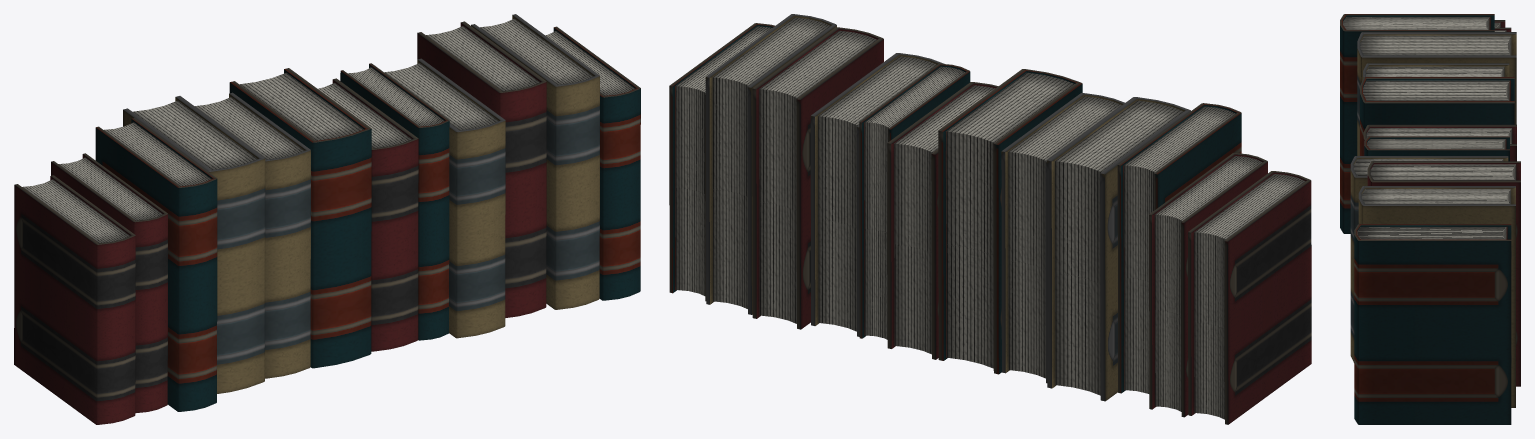
The model's file is CI_067_books_long.glb.
3 views of the same model, side by side, from view 1: azimuth 30°, elevation 25°; view 2: azimuth 150°, elevation 25°; view 3: azimuth 270°, elevation 25° (orthographic). The views are drawn at different scales.
Visible parts, largest first — view 1: book_8, book_11, book_12, book_1, book_4, book_2, book_5, book_3, book_6, book_9, book_7, book_10; view 2: book_8, book_4, book_11, book_5, book_1, book_2, book_12, book_3, book_6, book_7, book_10, book_9; view 3: book_9, book_11, book_1, book_12, book_4, book_5, book_10, book_2, book_6, book_3.
Boxes of the visible parts, x1=… form: book_8: x1=14, y1=175, x2=135, y2=424; book_11: x1=229, y1=68, x2=371, y2=368; book_12: x1=95, y1=118, x2=217, y2=411; book_1: x1=471, y1=14, x2=599, y2=309; book_4: x1=123, y1=96, x2=265, y2=393; book_2: x1=384, y1=58, x2=505, y2=338; book_5: x1=417, y1=21, x2=546, y2=317; book_3: x1=195, y1=92, x2=310, y2=378; book_6: x1=318, y1=78, x2=418, y2=351; book_9: x1=545, y1=26, x2=640, y2=300; book_7: x1=51, y1=153, x2=167, y2=413; book_10: x1=340, y1=63, x2=449, y2=340; book_8: x1=1188, y1=171, x2=1311, y2=424; book_4: x1=1047, y1=97, x2=1190, y2=401; book_11: x1=938, y1=69, x2=1082, y2=374; book_5: x1=752, y1=27, x2=883, y2=329; book_1: x1=705, y1=14, x2=836, y2=314; book_2: x1=810, y1=53, x2=944, y2=336; book_12: x1=1117, y1=103, x2=1241, y2=393; book_3: x1=1001, y1=93, x2=1124, y2=383; book_6: x1=887, y1=82, x2=998, y2=359; book_7: x1=1149, y1=153, x2=1267, y2=417; book_10: x1=859, y1=63, x2=970, y2=339; book_9: x1=669, y1=23, x2=774, y2=301; book_9: x1=1354, y1=224, x2=1511, y2=424; book_11: x1=1360, y1=77, x2=1514, y2=155; book_1: x1=1358, y1=186, x2=1515, y2=407; book_12: x1=1340, y1=14, x2=1494, y2=233; book_4: x1=1357, y1=32, x2=1516, y2=155; book_5: x1=1367, y1=161, x2=1520, y2=386; book_10: x1=1364, y1=136, x2=1509, y2=161; book_2: x1=1350, y1=156, x2=1508, y2=362; book_6: x1=1363, y1=124, x2=1516, y2=161; book_3: x1=1363, y1=63, x2=1509, y2=78.
Bounding box in the file's own units: 1.89 × 0.7484 × 0.5999.
1 material, 1 textured.
